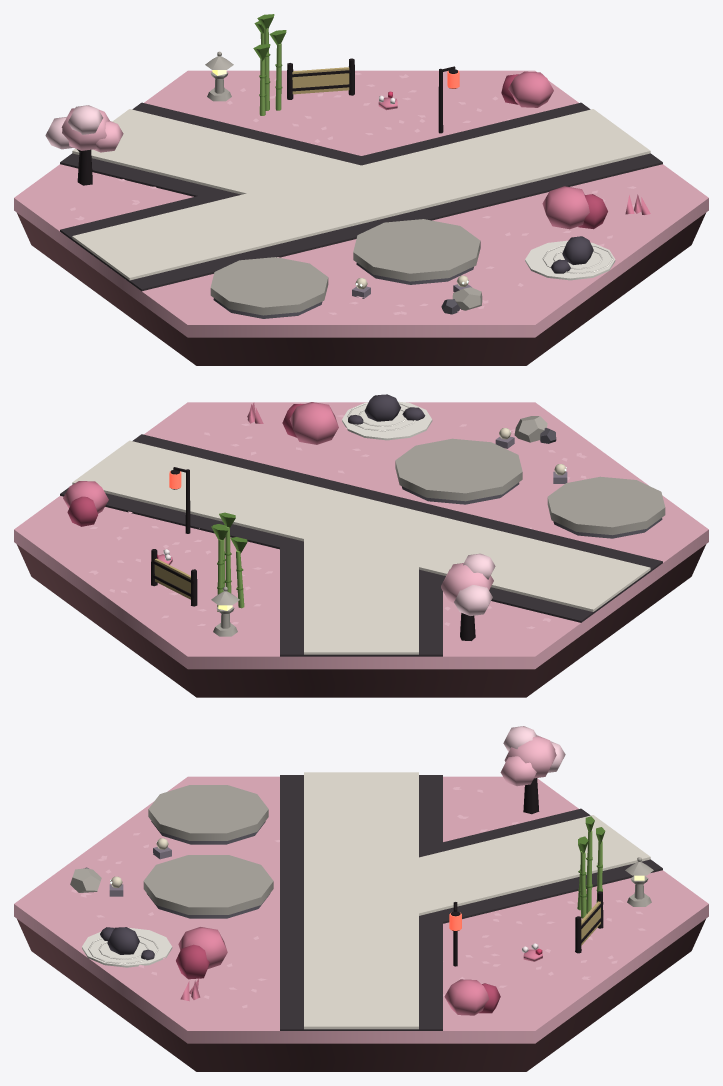
File: tile_soulFork.glb
3 renders of one model, top to bottom at view 1: azimuth 30°, elevation 25°; view 2: azimuth 150°, elevation 25°; view 3: azimuth 270°, elevation 25°, orthographic.
Parts seen in each view (by area): view 1: ground, road, ground_soil, tower_slot_2_plate, tower_slot_1_plate, deco_tree_3, deco_karesansui_gravel, deco_bamboo, deco_bush_5_a, deco_bush_0_a, deco_karesansui, deco_takegaki_panel (+2 smaller); view 2: ground, road, ground_soil, tower_slot_2_plate, tower_slot_1_plate, road_surface_hub, deco_tree_3, deco_karesansui_gravel, deco_bamboo, deco_bush_5_a, deco_karesansui, deco_petals (+4 smaller); view 3: ground, road, ground_soil, tower_slot_2_plate, tower_slot_1_plate, deco_tree_3, deco_karesansui_gravel, deco_bamboo, road_surface_hub, deco_karesansui, deco_bush_0_a, deco_bush_5_a (+3 smaller).
Boxes of the visible parts, box(x1,y1,x2,y2) form: ground: box(14, 70, 708, 337); road: box(60, 102, 662, 291); ground_soil: box(17, 213, 705, 365); tower_slot_2_plate: box(353, 219, 480, 281); tower_slot_1_plate: box(210, 257, 328, 315); deco_tree_3: box(45, 105, 123, 152); deco_karesansui_gravel: box(525, 240, 615, 280); deco_bamboo: box(253, 14, 286, 115); deco_bush_5_a: box(542, 186, 589, 229); deco_bush_0_a: box(508, 71, 553, 107); deco_karesansui: box(542, 236, 613, 273); deco_takegaki_panel: box(292, 67, 349, 94); ground: box(14, 402, 708, 669); road: box(60, 434, 662, 656); ground_soil: box(16, 544, 706, 697); tower_slot_2_plate: box(395, 438, 522, 501); tower_slot_1_plate: box(547, 476, 665, 535); road_surface_hub: box(304, 501, 417, 548); deco_tree_3: box(441, 553, 495, 615); deco_karesansui_gravel: box(342, 401, 432, 440); deco_bamboo: box(211, 512, 247, 611); deco_bush_5_a: box(289, 402, 338, 444); deco_karesansui: box(347, 394, 425, 431); deco_petals: box(89, 415, 586, 628); ground: box(14, 776, 708, 1043); road: box(280, 772, 662, 1030); ground_soil: box(17, 919, 705, 1071); tower_slot_2_plate: box(143, 855, 273, 914); tower_slot_1_plate: box(148, 785, 268, 840); deco_tree_3: box(500, 726, 565, 786); deco_karesansui_gravel: box(82, 927, 172, 967); deco_bamboo: box(577, 816, 605, 918); road_surface_hub: box(304, 880, 416, 923); deco_karesansui: box(88, 927, 158, 964); deco_bush_0_a: box(444, 979, 488, 1015); deco_bush_5_a: box(178, 927, 227, 968).
Bounding box in the file's own units: 1.73 × 0.445 × 2.
